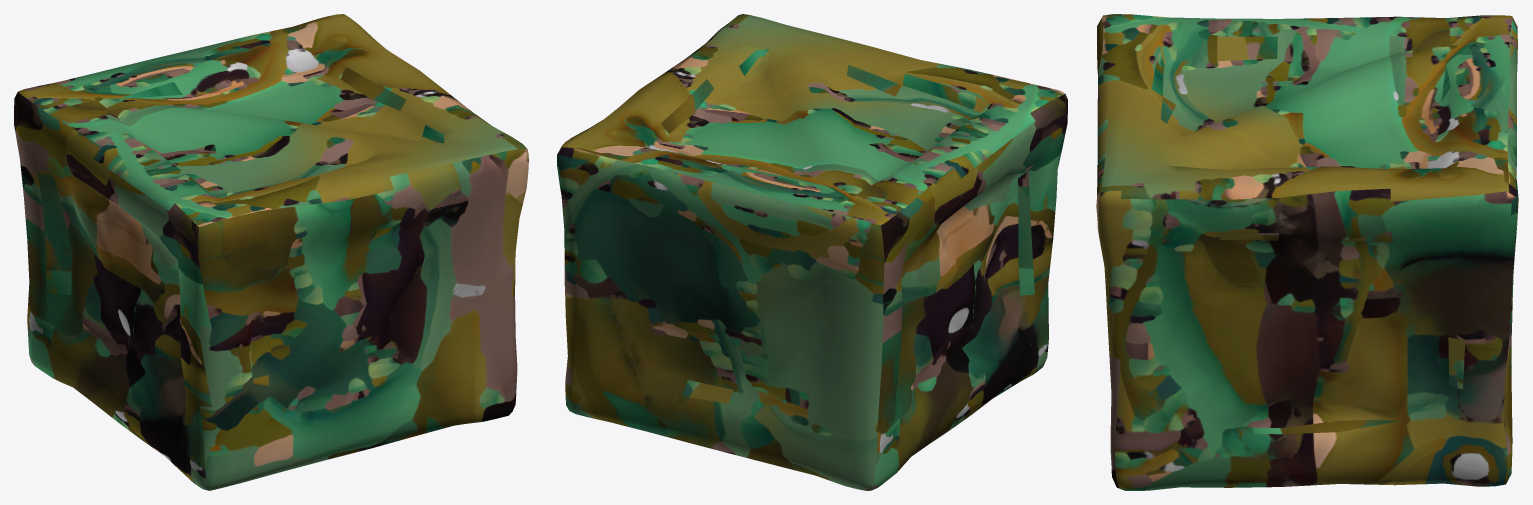
The model's file is Caja.fbx.
The picture shows the model from 3 angles, left to right: view 1: azimuth 30°, elevation 25°; view 2: azimuth 150°, elevation 25°; view 3: azimuth 270°, elevation 25°; orthographic projection. The views are drawn at different scales.
Parts seen in each view (by area): view 1: tripo_node_4539b727; view 2: tripo_node_4539b727; view 3: tripo_node_4539b727.
Part boxes in pixels (x1,y1,x2,y2): tripo_node_4539b727: [14, 14, 528, 490]; tripo_node_4539b727: [557, 14, 1067, 490]; tripo_node_4539b727: [1096, 14, 1518, 490].
Size of the model in its own units: 0.9958 by 0.7982 by 0.9783.
